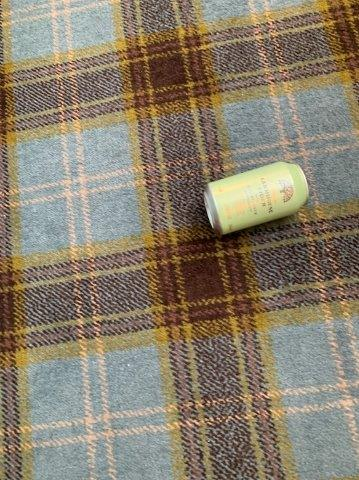kaleng: (205, 162, 309, 234)
